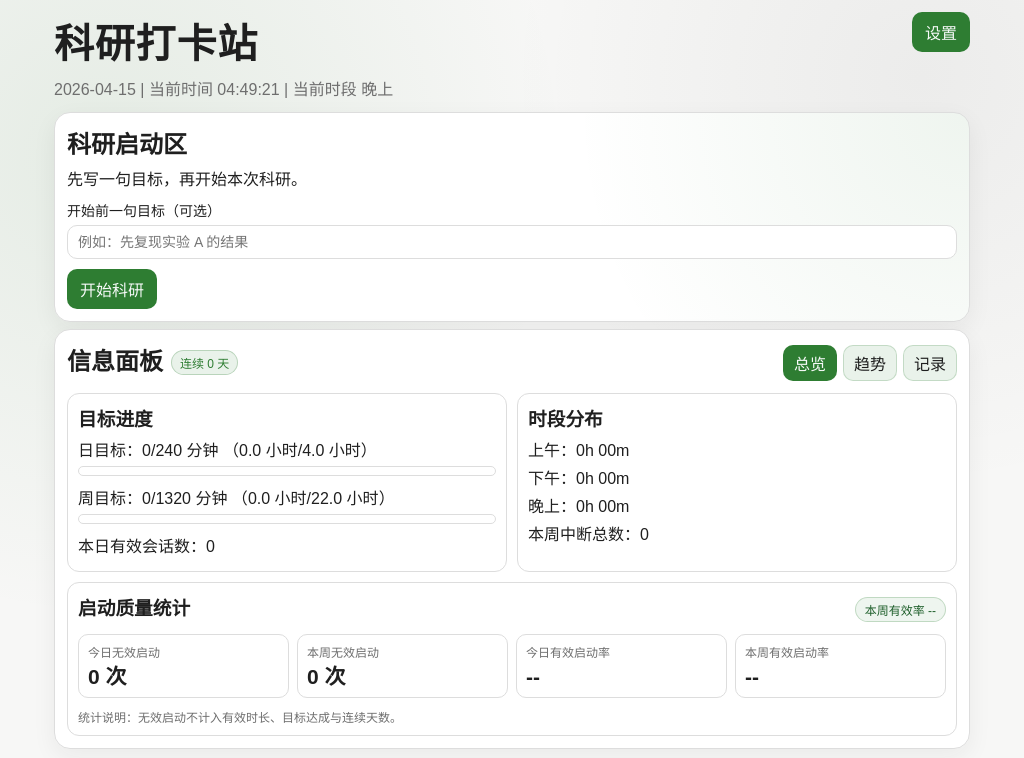
Test: App integration › completes start -> end flow and updates summary
The image size is (1024, 758).
Check: the heading "科研启动区" is shown, box [67,131,187,158]
In the field with placeholder "例如：先复现实验 A 的结果": (512, 242) [67,225,957,259], type "实验推进"
Click the button "开始科研": click(112, 289) [67,269,157,309]
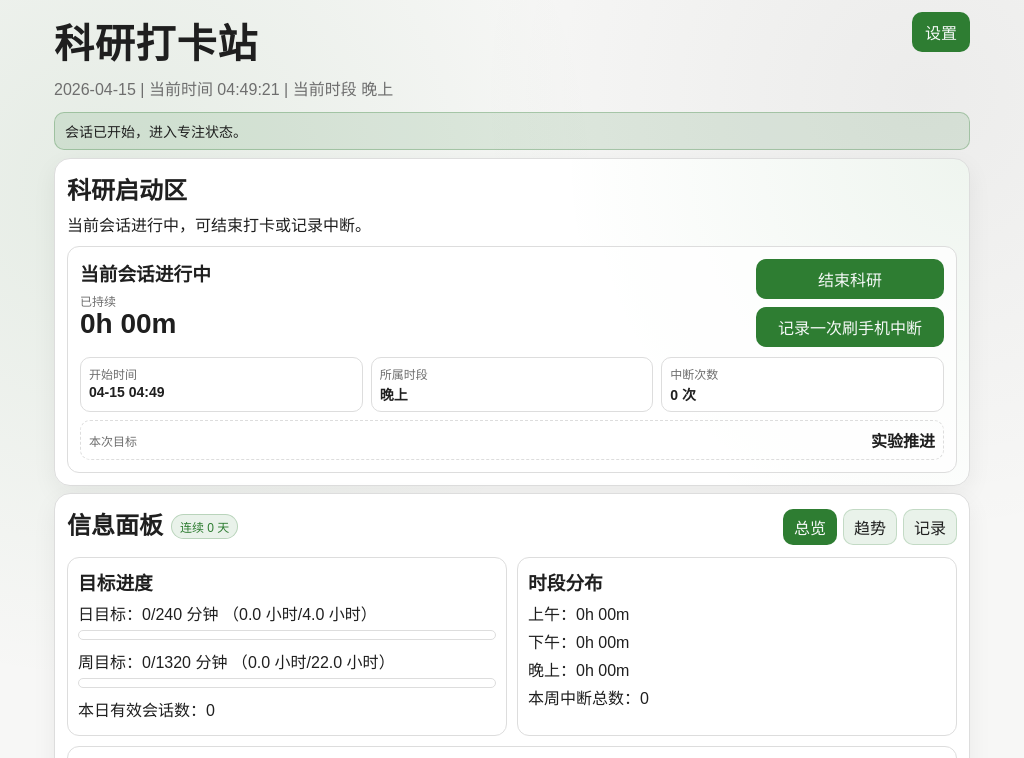
Check: the heading "当前会话进行中" is shown, box [80,259,211,286]
Click the button "结束科研": click(850, 279) [756,259,944,299]
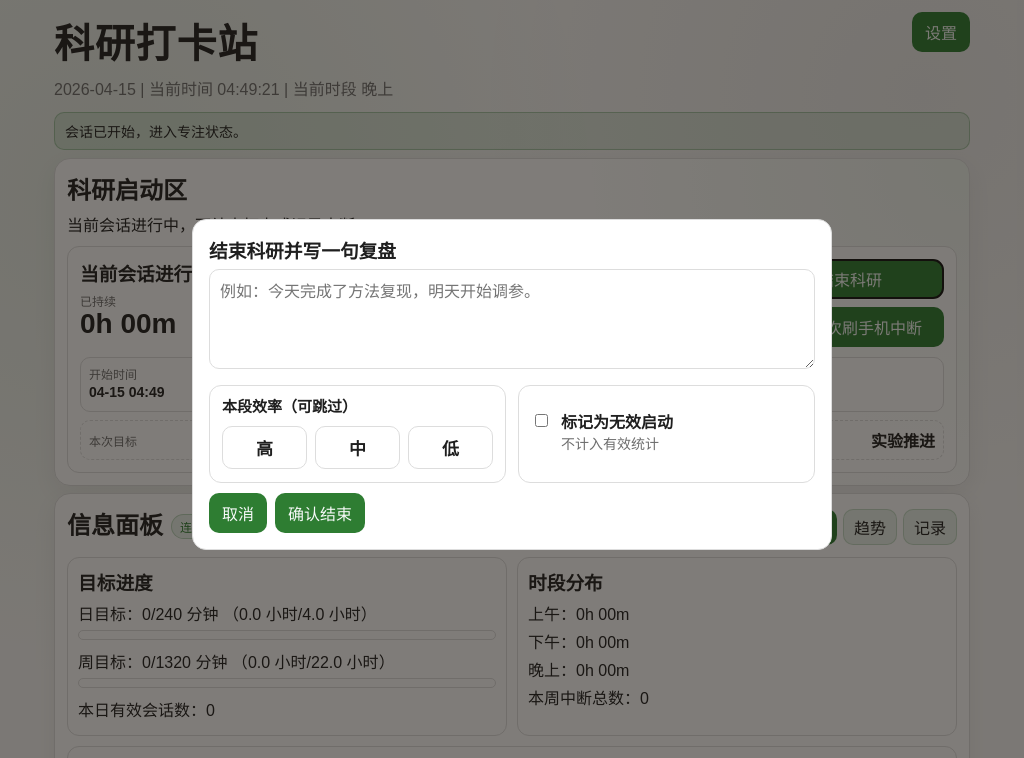
Check: the heading "结束科研并写一句复盘" is shown, box [209,240,396,262]
In the text box with placeholder "例如：今天完成了方法复现，明天开始调参。": (512, 318) [209,268,815,368], type "完成复现"
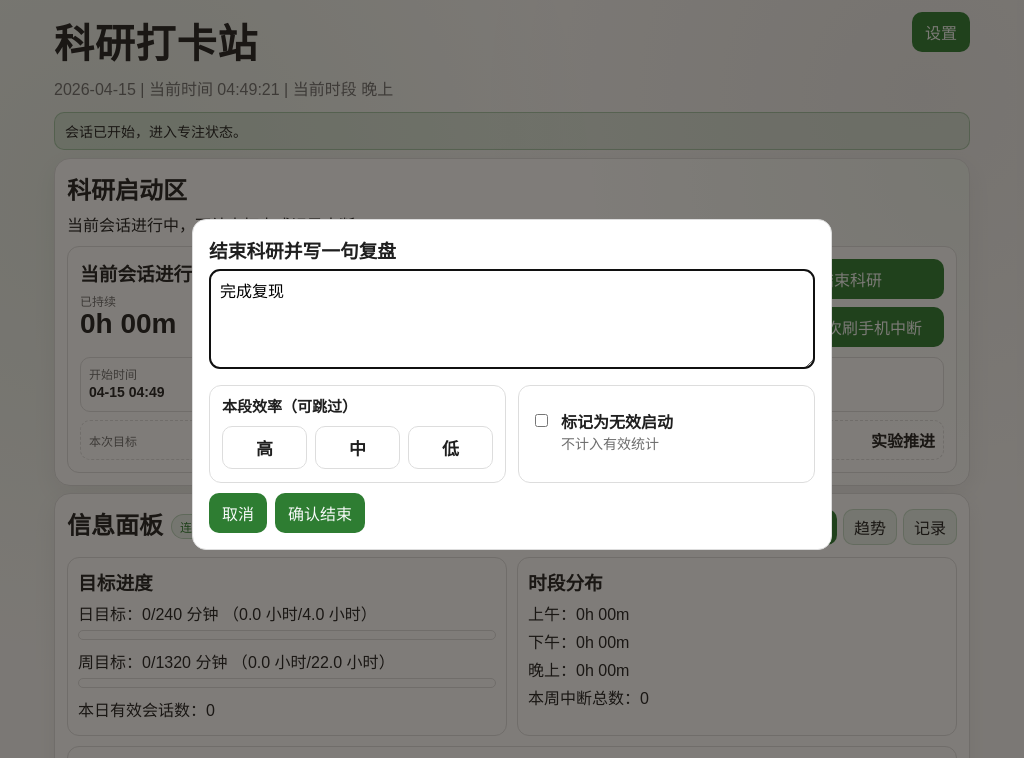
Click the radio button labelled "高": click(264, 447) [222,426,307,468]
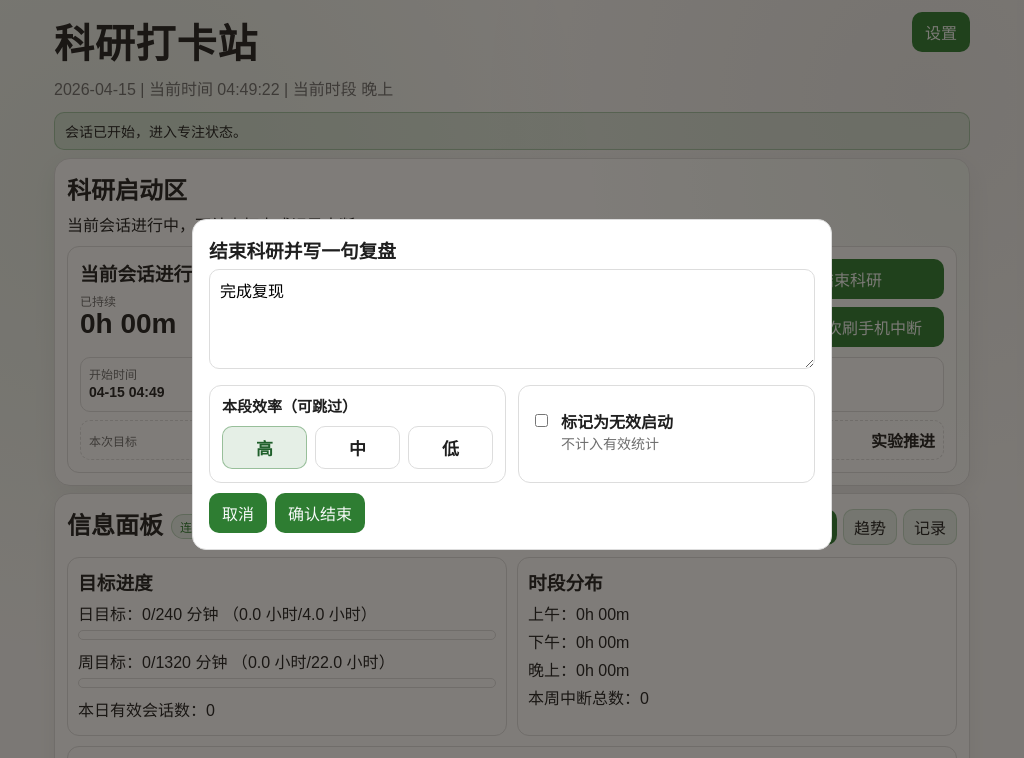
Click the button "确认结束": click(320, 512) [275,492,365,532]
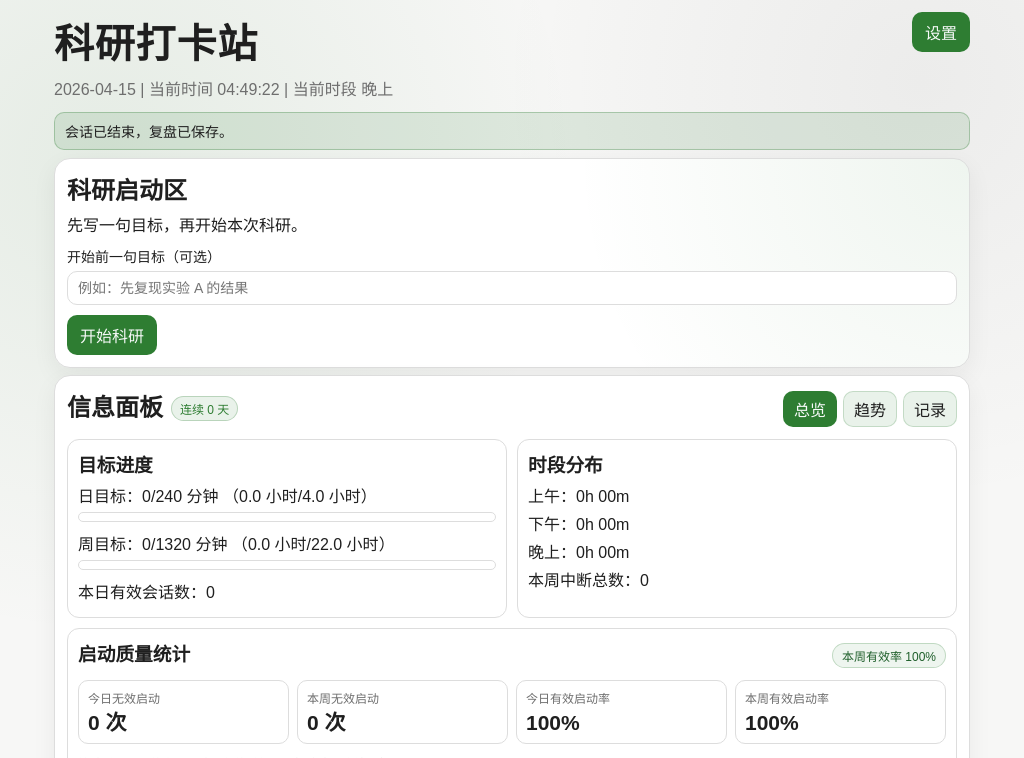
Check: the text "会话已结束，复盘已保存。" is shown, box [54,112,970,150]
Click the tab "记录": click(930, 408) [903,390,957,426]
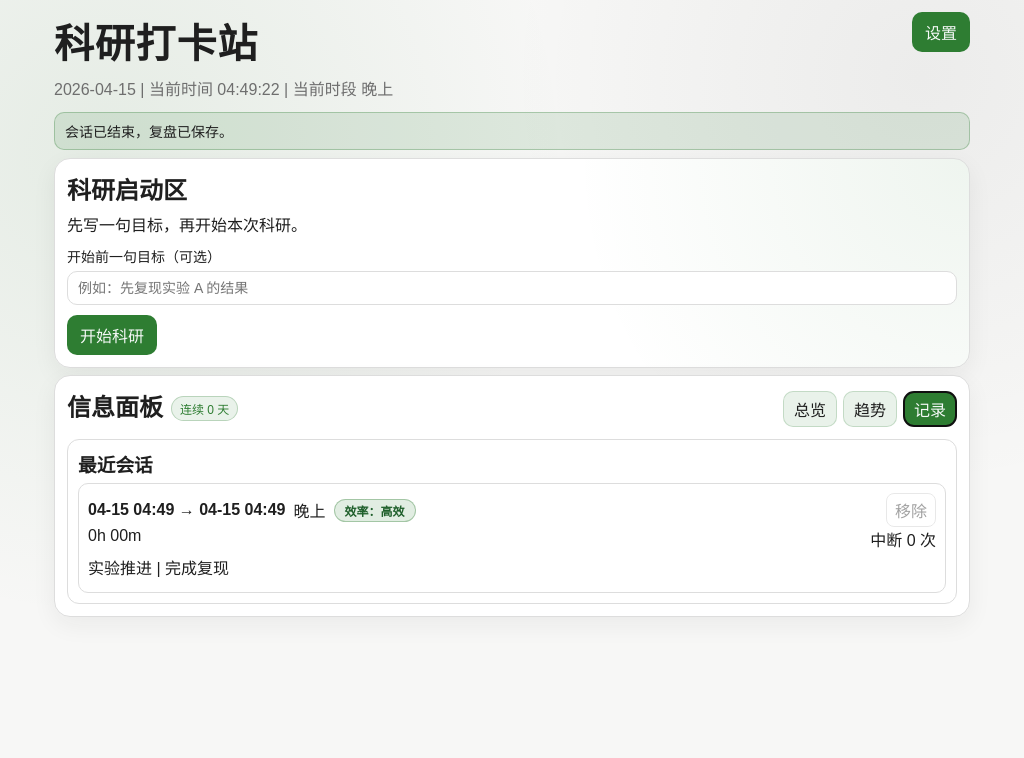
Check: the text "实验推进 | 完成复现" is shown, box [88,560,229,577]
Check: the text "效率：高效" is shown, box [334,498,416,522]
